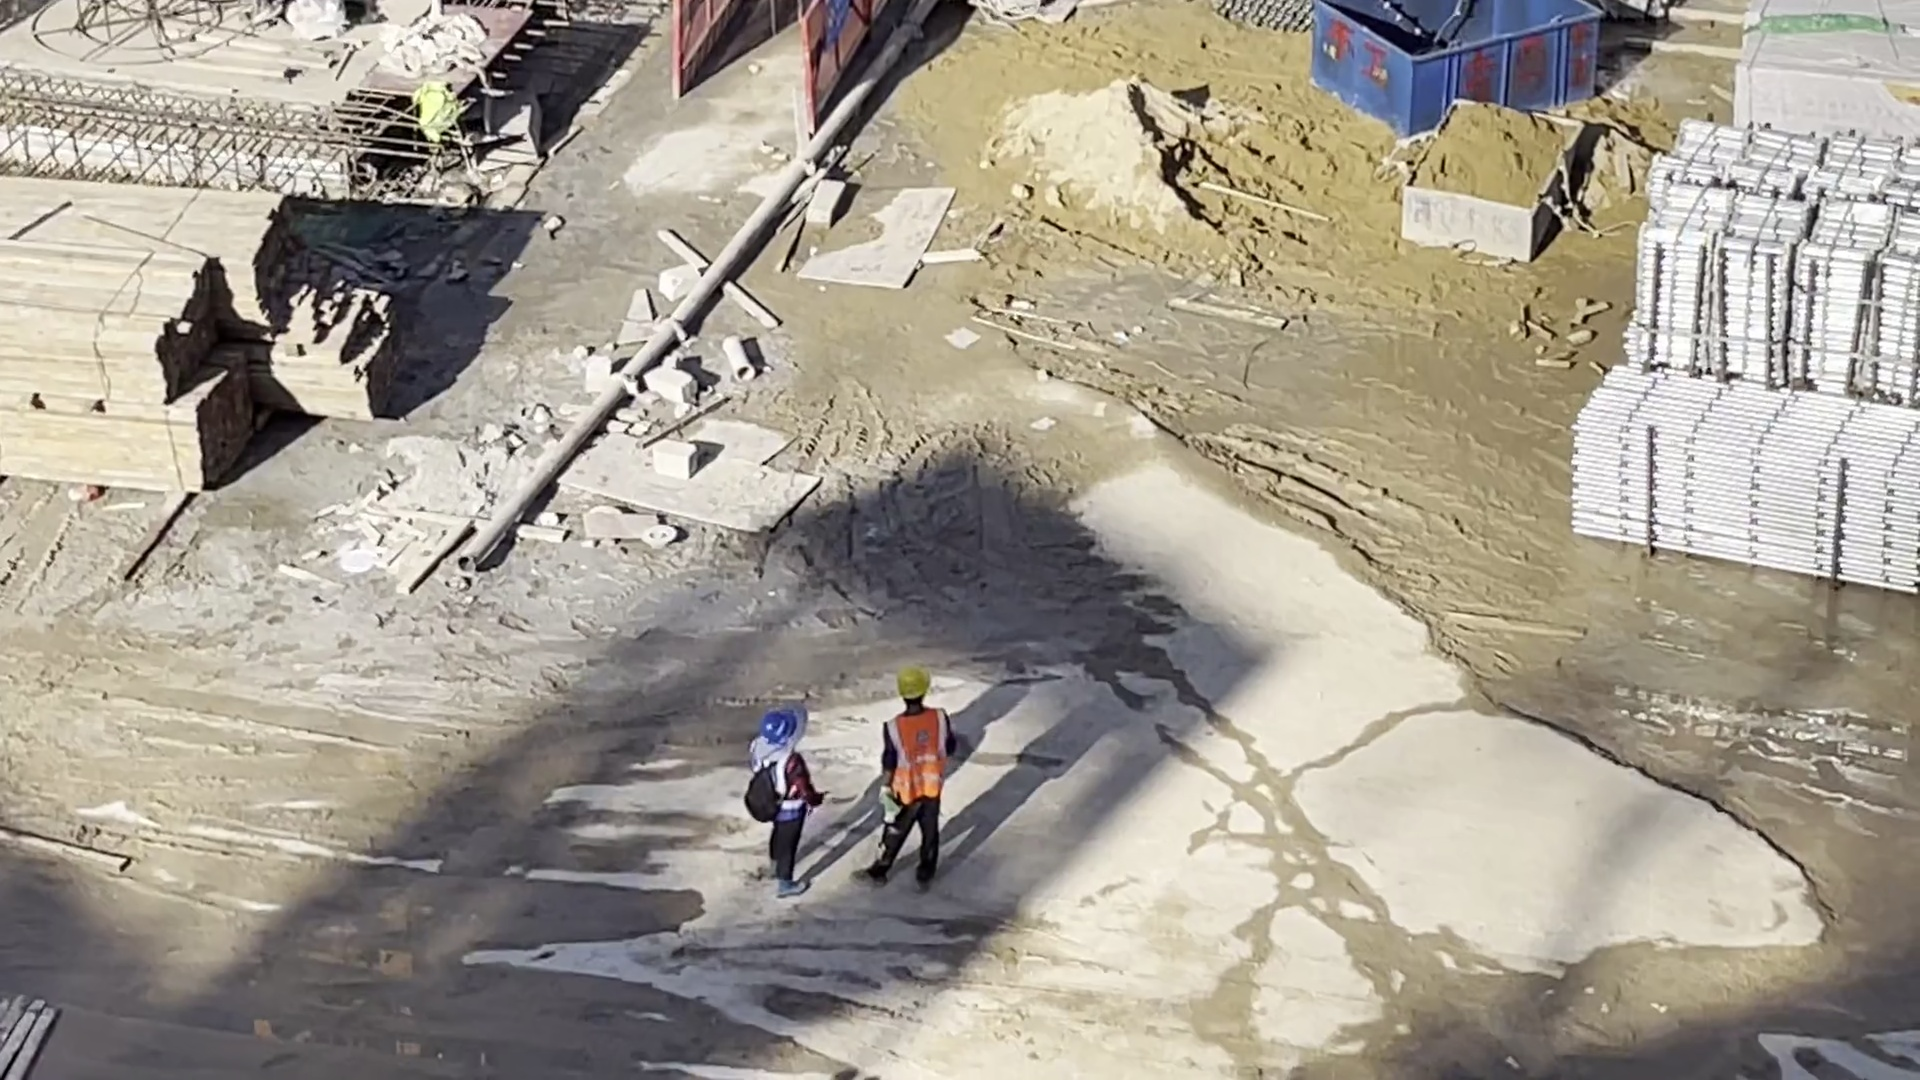fence: (677, 1, 888, 91)
helmet: (763, 711, 797, 742), (897, 670, 931, 698)
hopper: (1312, 1, 1601, 135), (1400, 103, 1582, 266)
person: (875, 670, 948, 884), (748, 712, 825, 895)
scaffold: (1639, 130, 1920, 406), (1578, 377, 1920, 597)
slogan: (831, 1, 852, 51)
vest: (886, 711, 947, 803), (758, 753, 804, 822)
wood: (1, 180, 283, 474)
